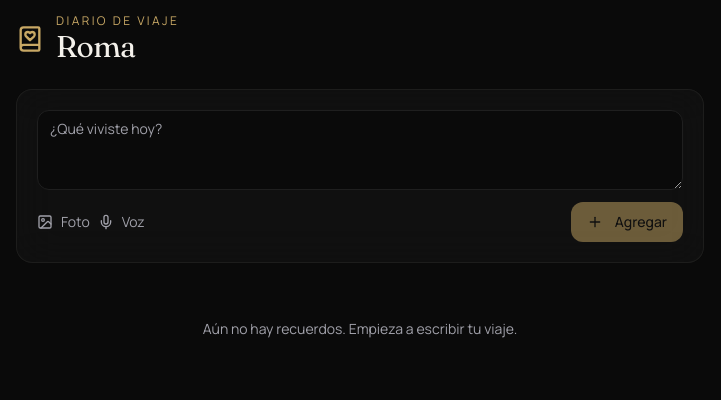
Test case: nota de voz en el diario (dictado del navegador, Web Speech API) › permiso negado en el dictado: explica cómo activarlo
The width and height of the screenshot is (721, 400).
Check: the heading "Roma" is shown, box 56,28 -> 136,65
Click the button with aria-label "Grabar nota de voz": (121, 222) 98,212 -> 145,232
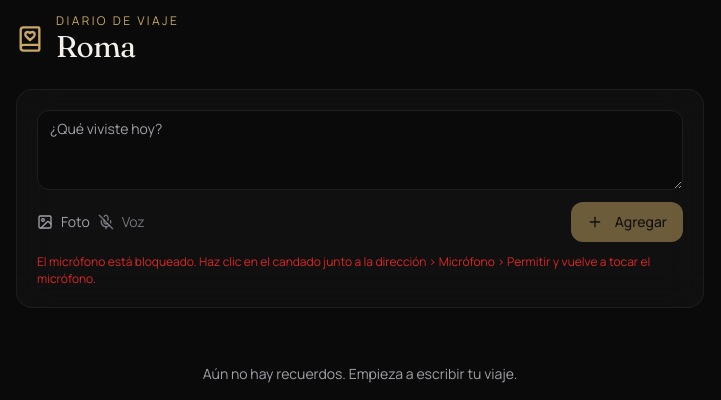
Check: the button with aria-label "Micrófono bloqueado: cómo activarlo" is shown, box 98,212 -> 145,232
Check: the message shows "candado", box 37,253 -> 650,286
